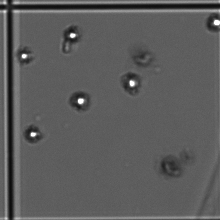Dead Cell: (155, 152, 186, 181), (133, 44, 155, 66)
Living Cell: (116, 70, 152, 101), (66, 84, 91, 115), (63, 25, 85, 50), (22, 122, 42, 146), (17, 45, 38, 66), (207, 10, 220, 29)
